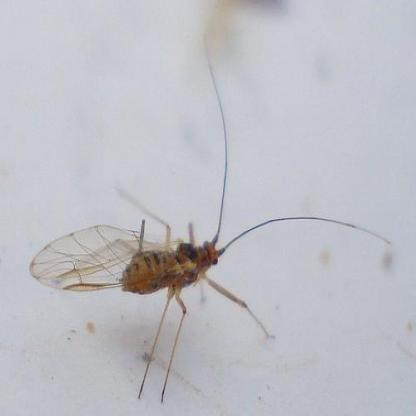aphid: (26, 88, 371, 406)
